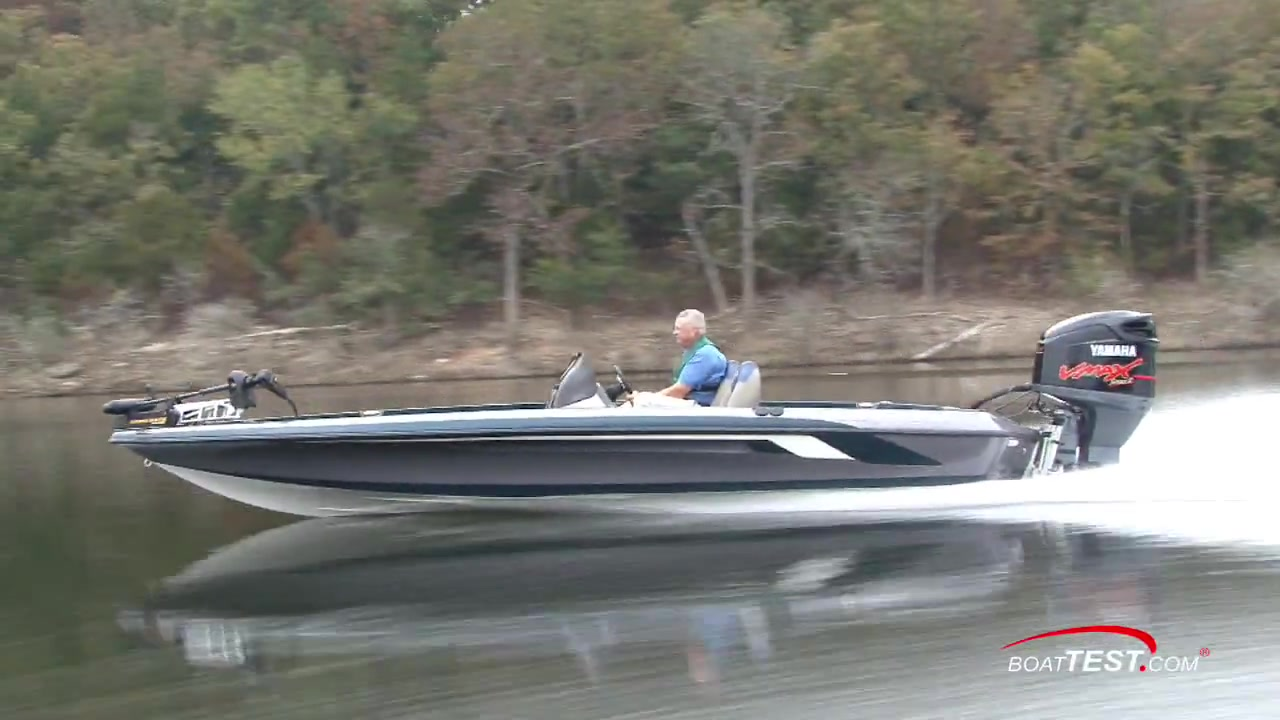boat: (98, 309, 1162, 521)
